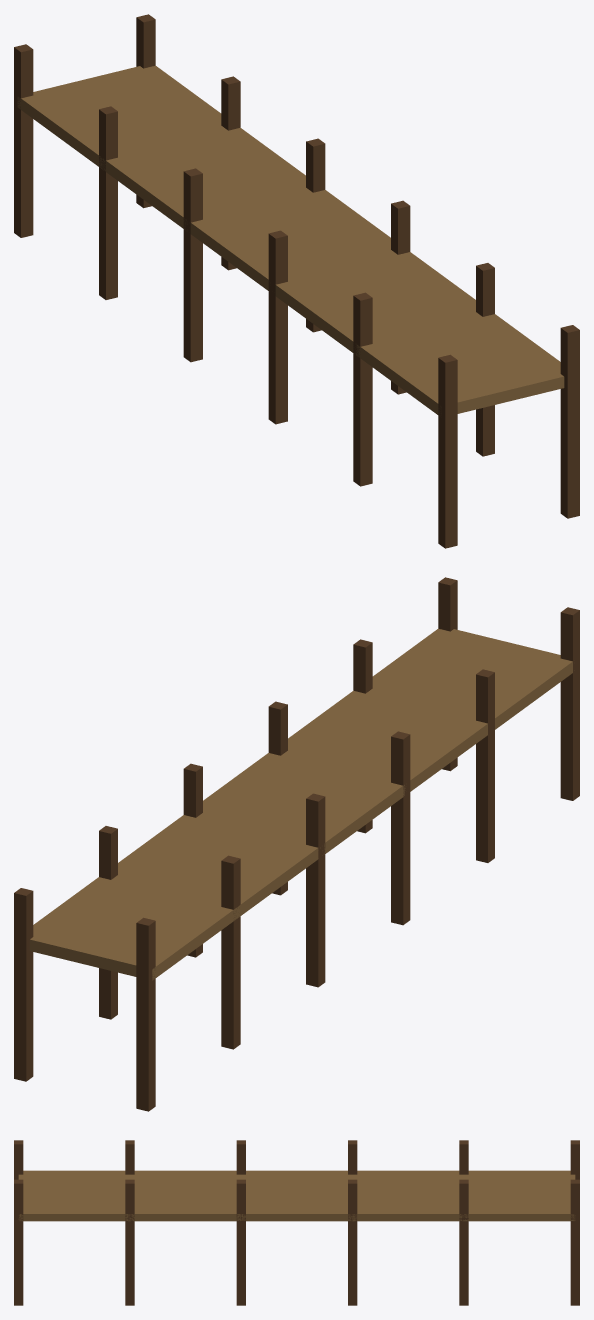
File: Dock.glb
3 views of the same model, one above another, from view 1: azimuth 30°, elevation 25°; view 2: azimuth 150°, elevation 25°; view 3: azimuth 270°, elevation 25° (orthographic). The views are drawn at different scales.
Visible parts, largest first — view 1: Dock; view 2: Dock; view 3: Dock.
Boxes of the visible parts, left/top/right/bottom form: Dock: left=14, top=14, right=579, bottom=548; Dock: left=14, top=577, right=579, bottom=1111; Dock: left=14, top=1140, right=579, bottom=1305.
Size of the model in its own units: 2.2 by 2.9 by 12.2.
